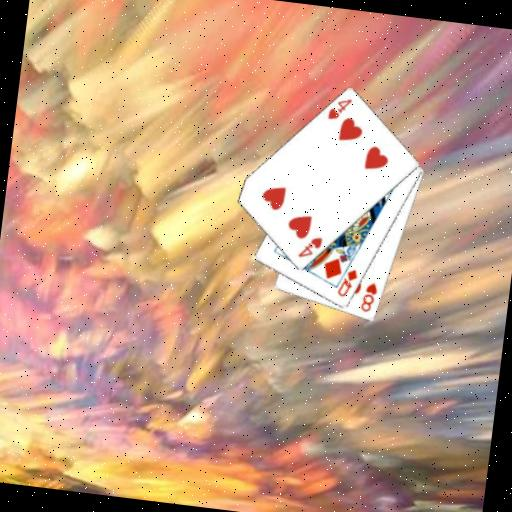4H: (295, 232, 325, 262), (324, 94, 354, 124)
8H: (357, 279, 380, 315)
QD: (334, 265, 360, 300)
